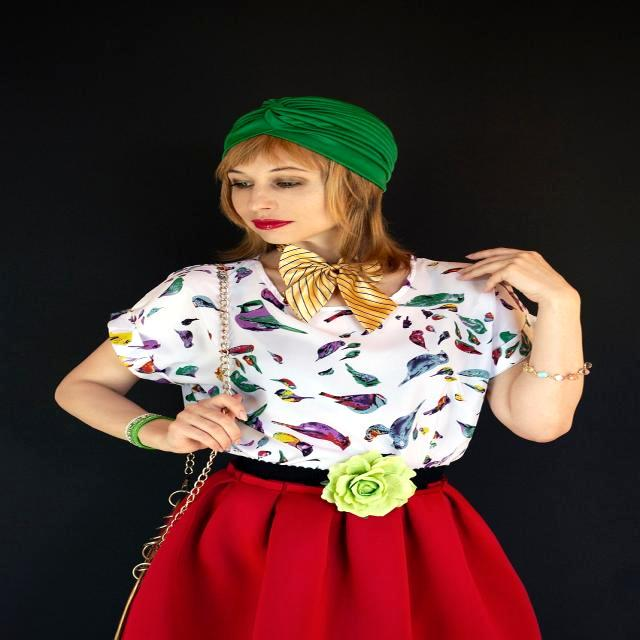no_hard_hat: (223, 96, 397, 188)
person: (56, 136, 587, 640)
